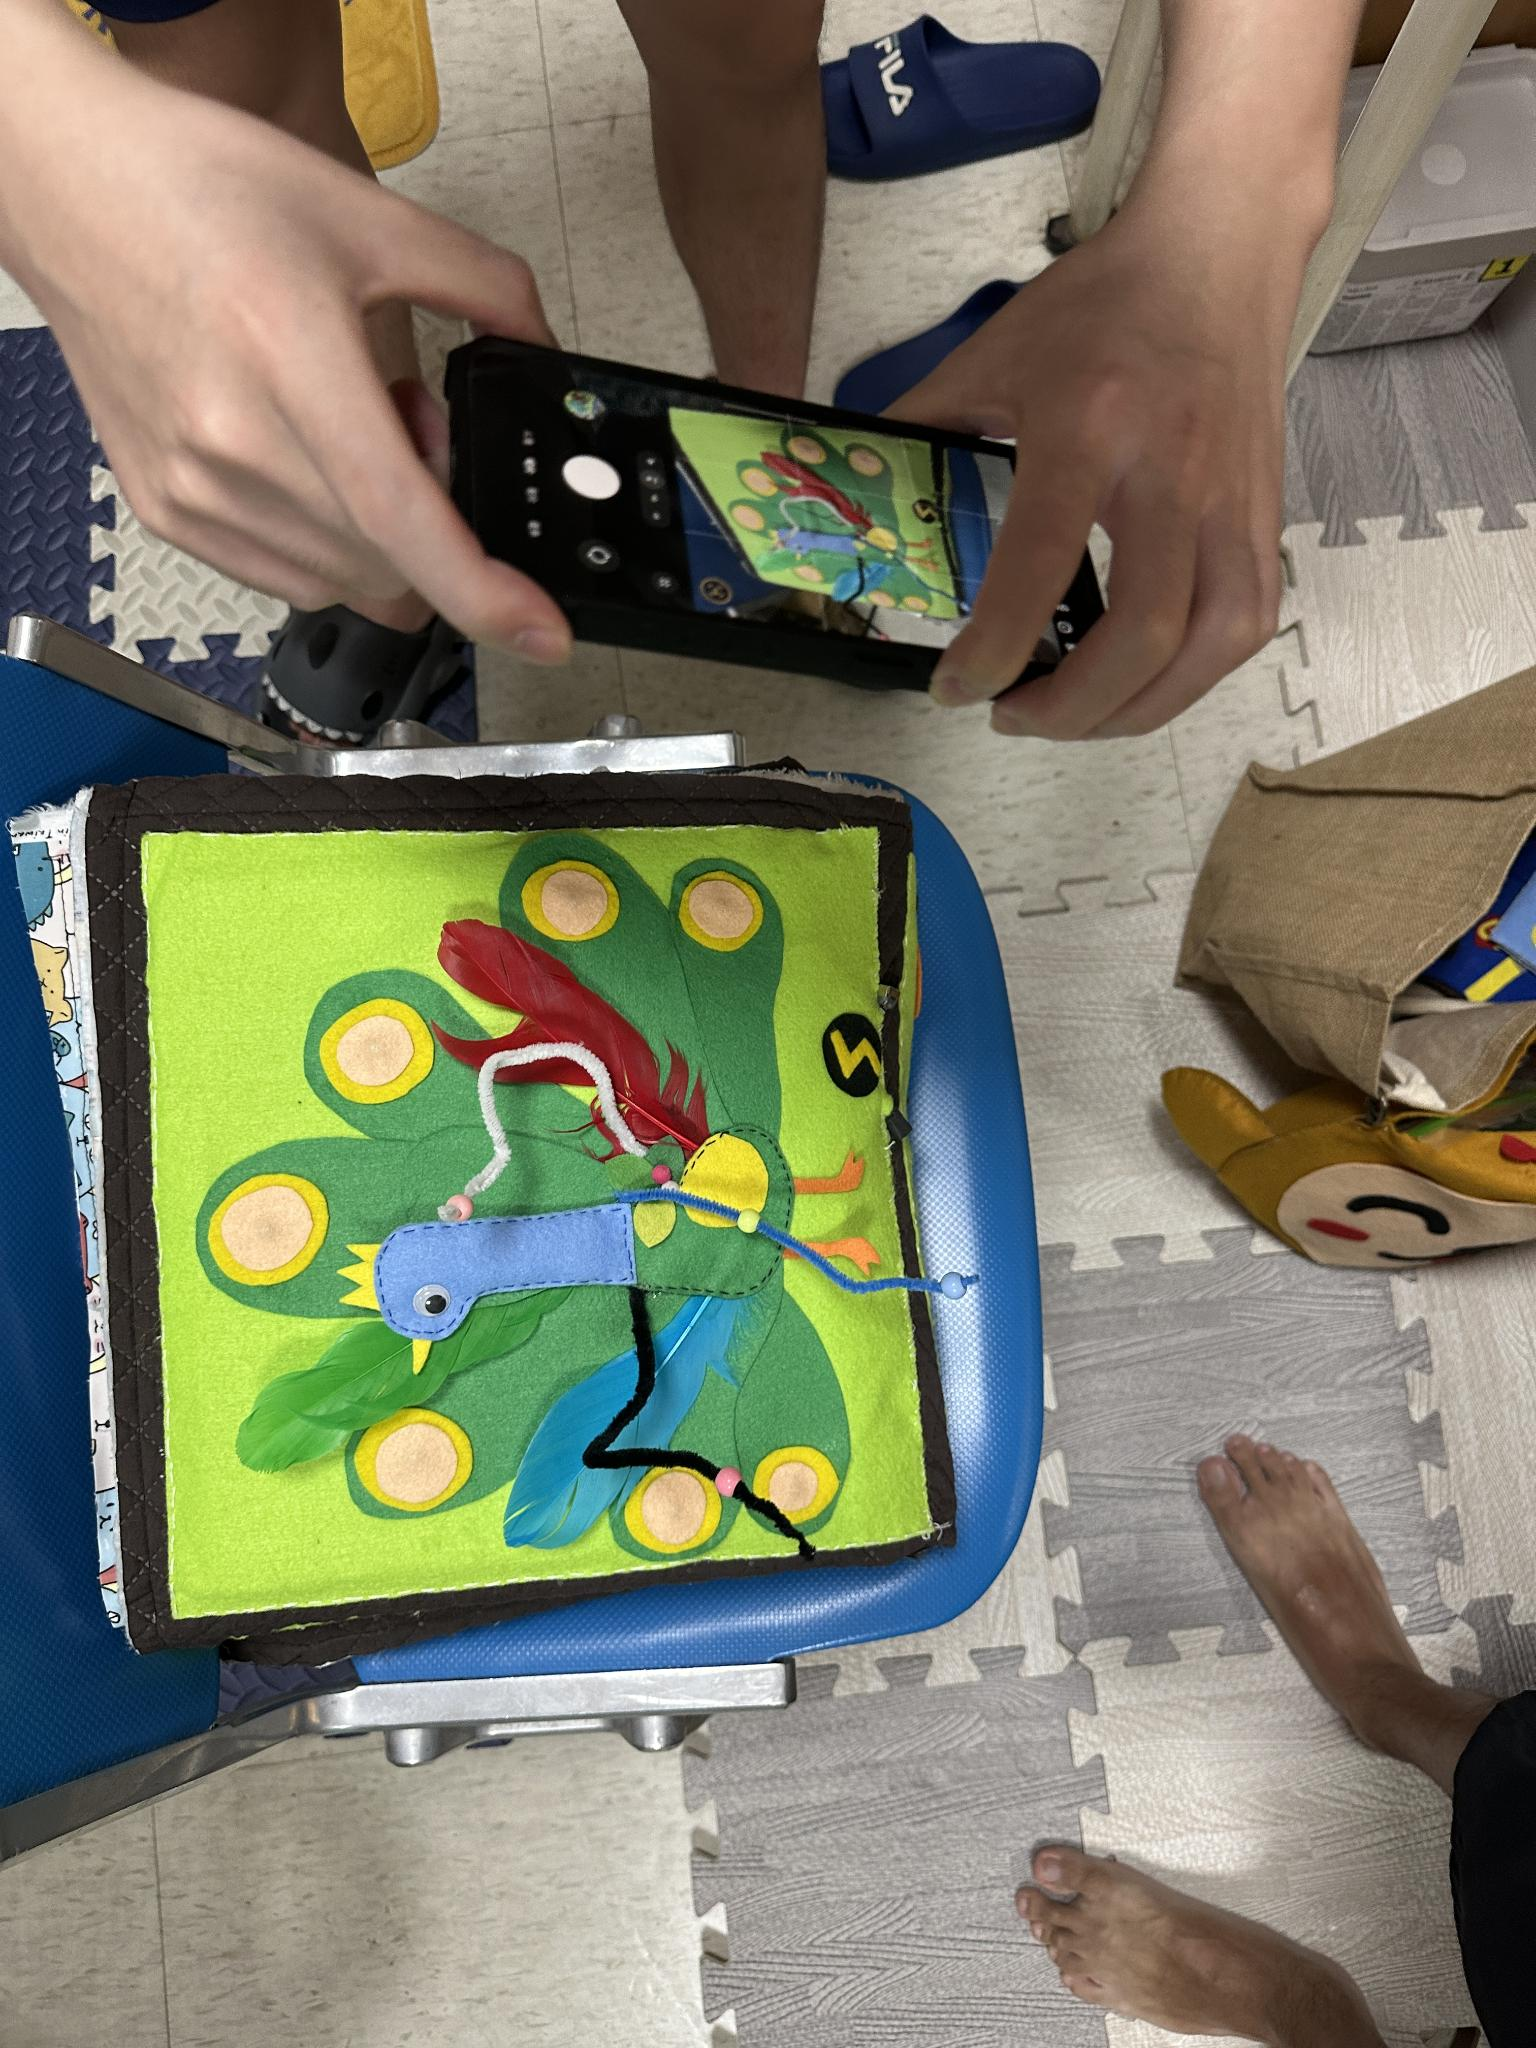bead: (929, 1256, 978, 1319), (432, 1180, 482, 1235), (721, 1192, 765, 1255), (702, 1455, 749, 1506)
